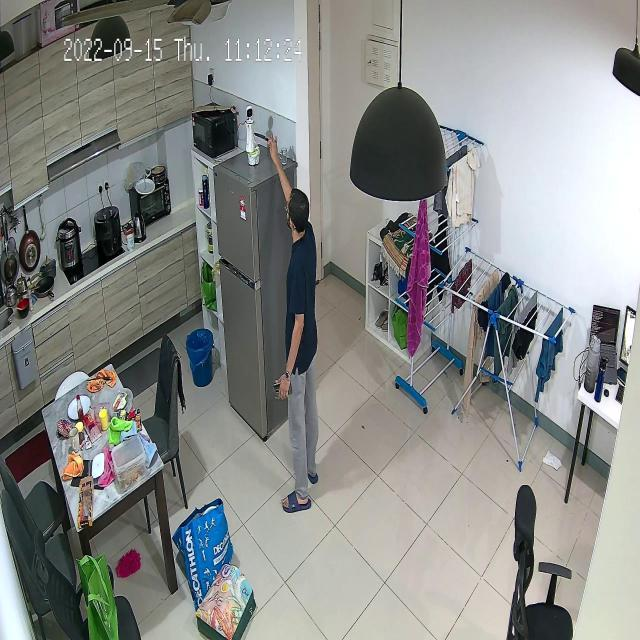Knife: (252, 127, 280, 158)
